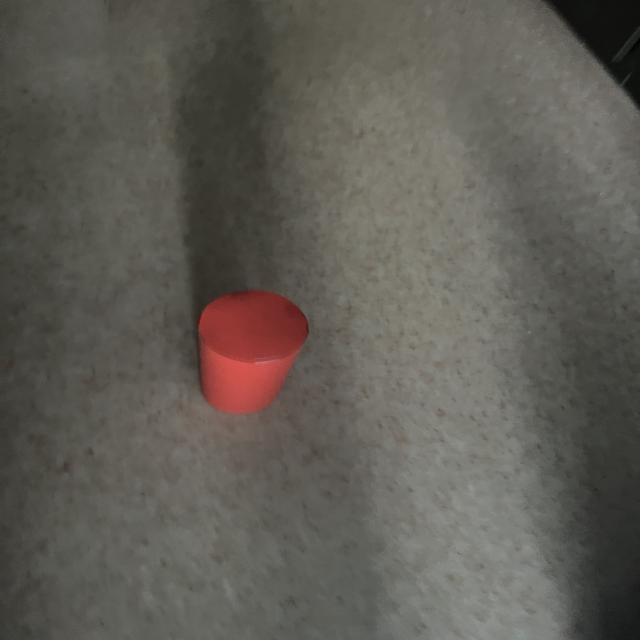przeszkoda: (198, 290, 308, 413)
